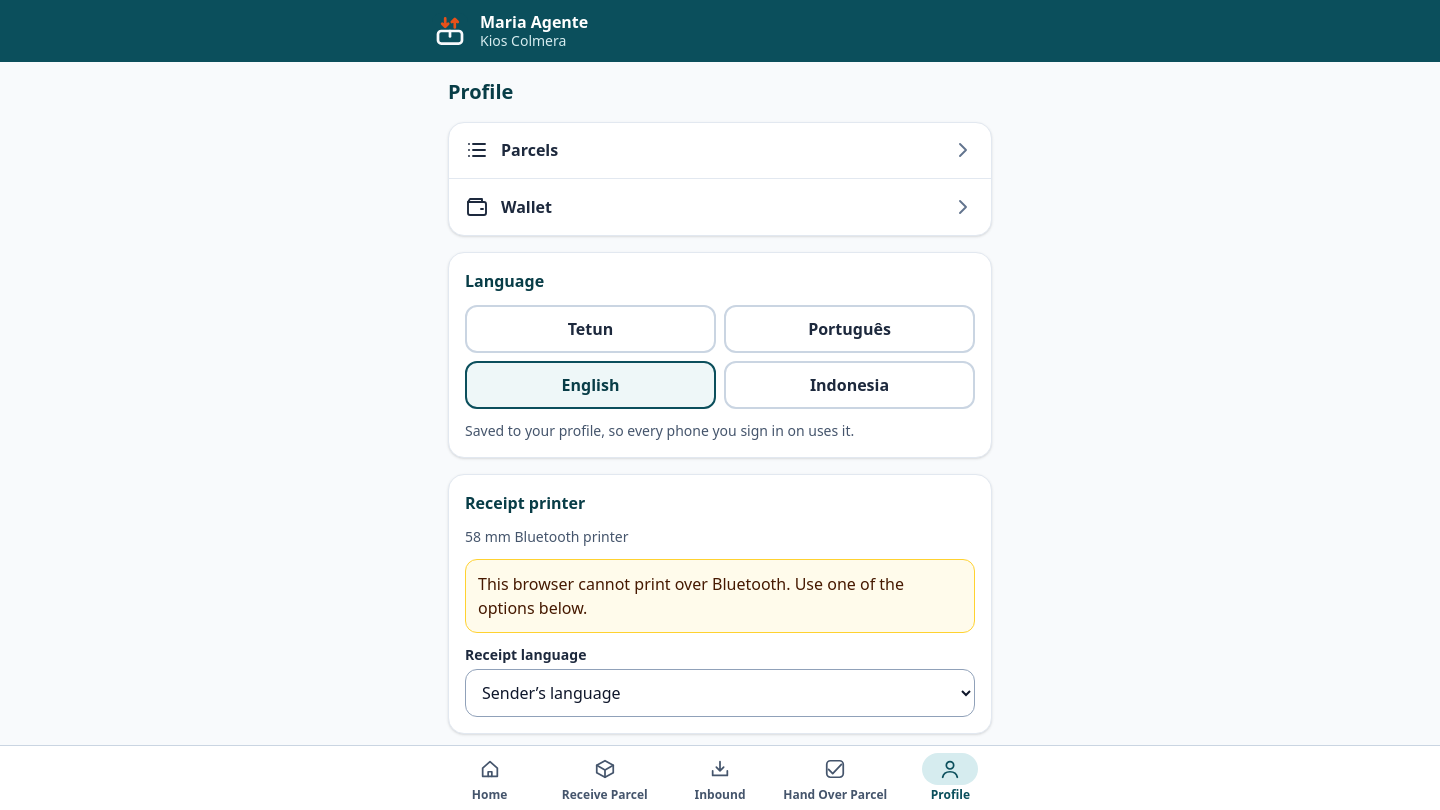
Scenario: language is synced to the profile › switching language saves it to the profile and sends it with every later request
Click the radio button labelled "Português" at (850, 328), box [724, 304, 975, 352]
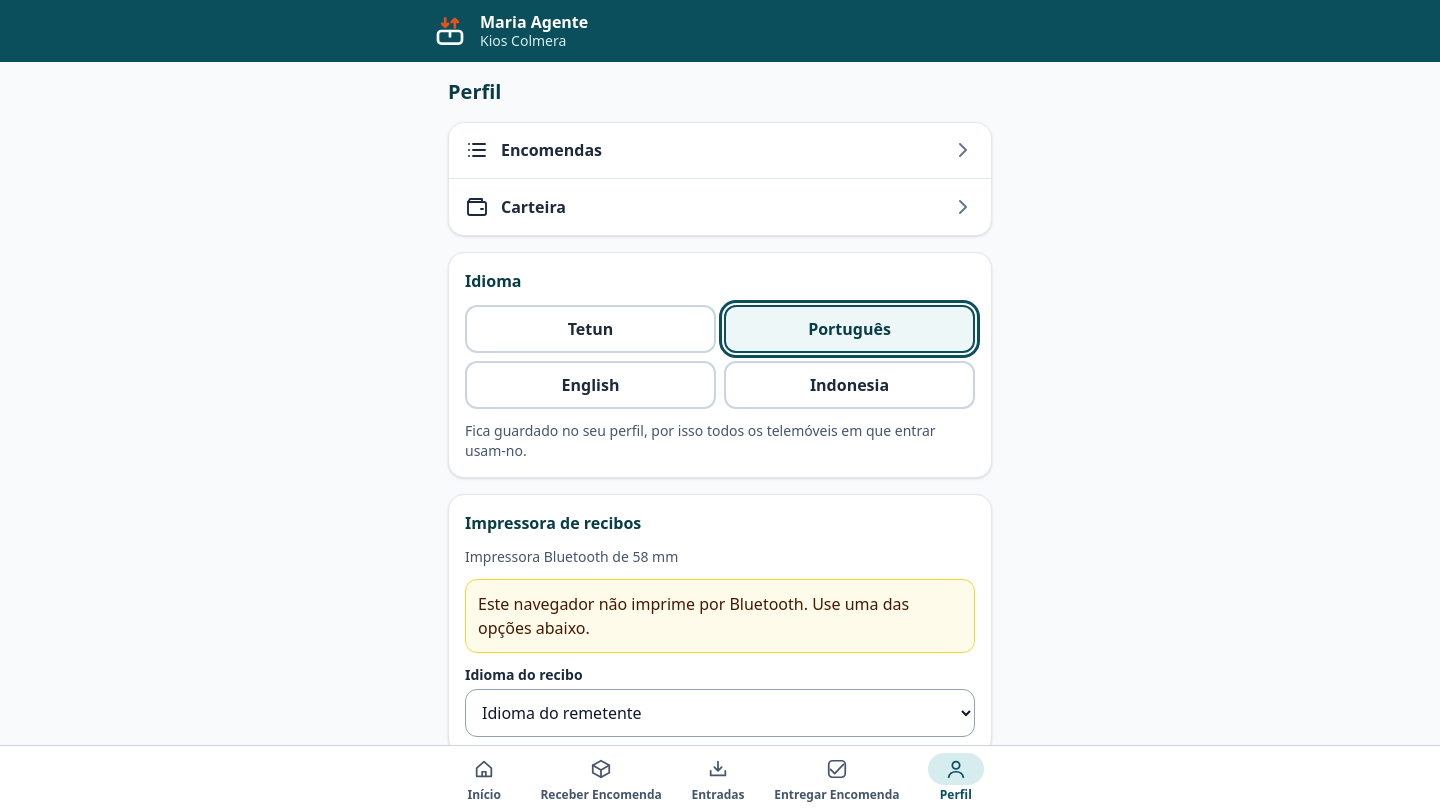
Expected: the heading "Perfil" is shown, [448, 78, 501, 106]
